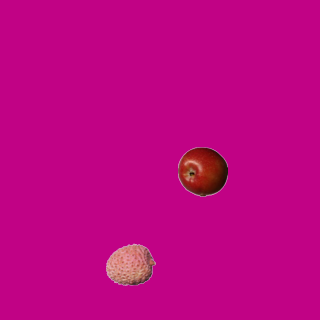Apple Braeburn: (177, 146, 227, 196)
Lychee: (105, 239, 155, 289)
